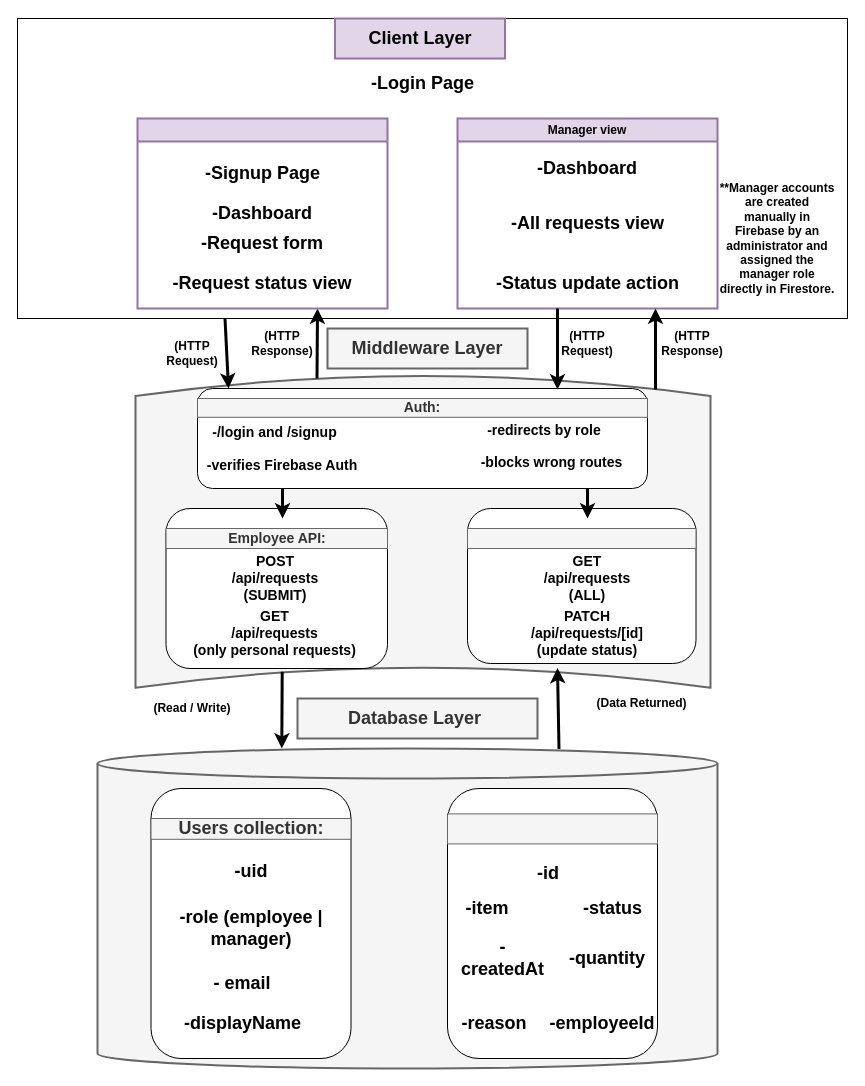
The diagram is 865 pixels wide and 1086 high, and some of its shapes have lost their labels. The shapes that lost their labels are listed below. From the top down, each one's box as (x1, y1, x2, y2) in pixels, then its label:
(136, 117, 388, 309): Employee view
(466, 528, 696, 548): Manager API:
(446, 813, 658, 844): Requests collection:
